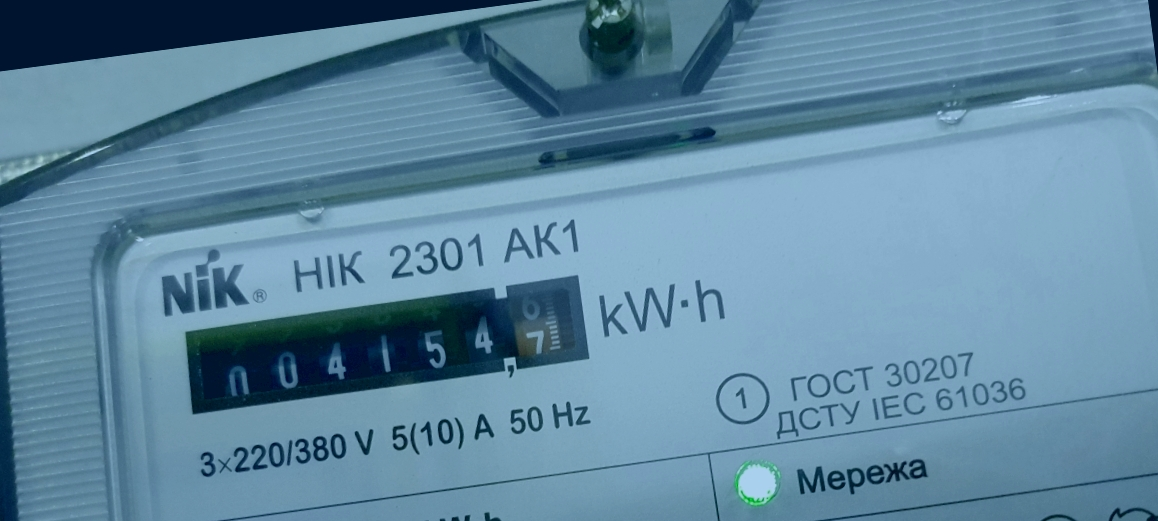0: (273, 347, 301, 391), (224, 359, 251, 396)
1: (376, 331, 394, 374)
4: (321, 338, 349, 382), (469, 310, 495, 356)
5: (420, 323, 450, 370)
6: (518, 289, 544, 321)
7: (523, 325, 547, 356)
screen: (164, 258, 608, 429)
